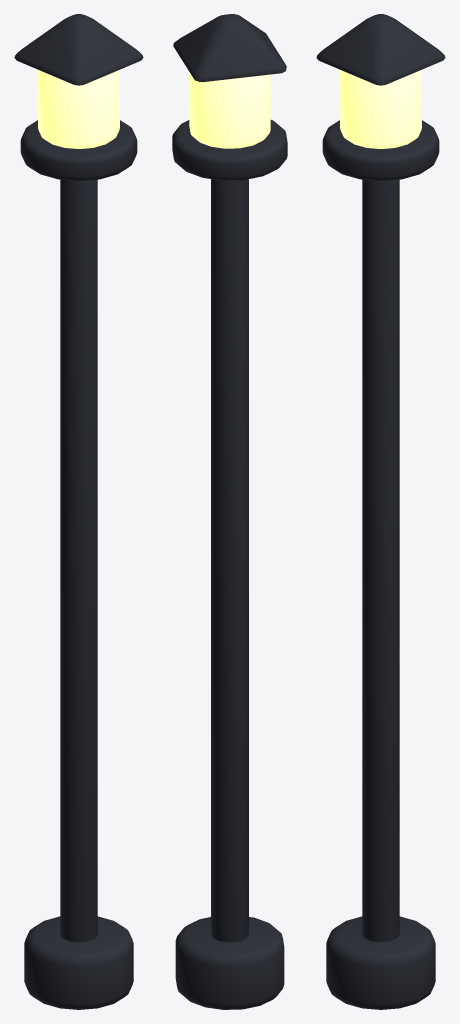
File: poste.glb
The picture shows the model from 3 angles, left to right: view 1: azimuth 90°, elevation 25°; view 2: azimuth 150°, elevation 25°; view 3: azimuth 270°, elevation 25°; orthographic projection.
Parts seen in each view (by area): view 1: Cylinder.001, Cylinder, poste_lampada, Cone, Cylinder.002; view 2: Cylinder.001, Cylinder, poste_lampada, Cone, Cylinder.002; view 3: Cylinder.001, Cylinder, poste_lampada, Cone, Cylinder.002.
Part boxes in pixels (<box>): Cylinder.001: <box>60,179,97,942</box>; Cylinder: <box>24,916,133,1009</box>; poste_lampada: <box>38,70,119,148</box>; Cone: <box>14,14,143,85</box>; Cylinder.002: <box>20,120,137,180</box>; Cylinder.001: <box>211,179,248,942</box>; Cylinder: <box>175,917,284,1009</box>; poste_lampada: <box>189,72,270,148</box>; Cone: <box>173,14,286,82</box>; Cylinder.002: <box>172,120,287,180</box>; Cylinder.001: <box>362,179,399,942</box>; Cylinder: <box>326,916,435,1009</box>; poste_lampada: <box>340,70,421,148</box>; Cone: <box>316,14,445,85</box>; Cylinder.002: <box>322,120,439,180</box>.
Size of the model in its own units: 0.3771 by 3.14 by 0.3771.
